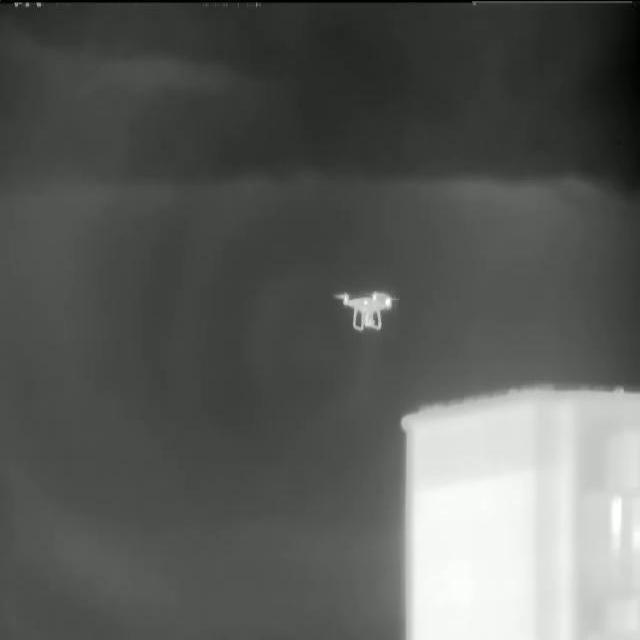DRONE: (333, 287, 403, 332)
